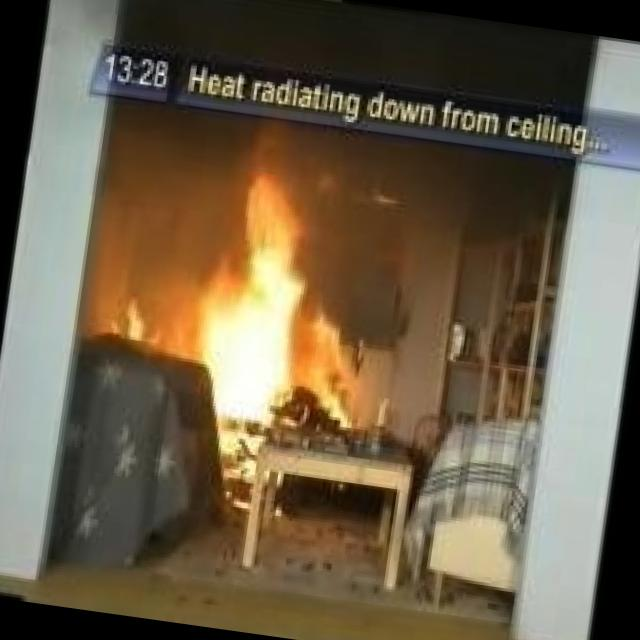fire: (156, 172, 350, 438)
smoke: (122, 0, 596, 113)
